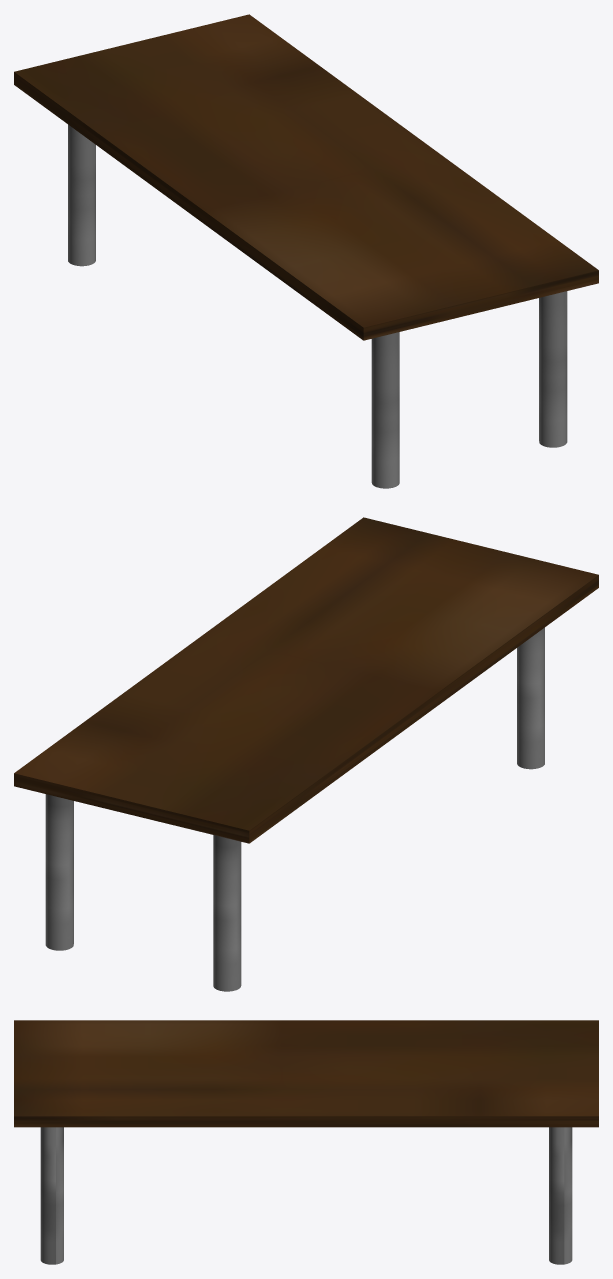
Rendered from Security_Desk.fbx.
The picture shows the model from 3 angles, top to bottom: view 1: azimuth 30°, elevation 25°; view 2: azimuth 150°, elevation 25°; view 3: azimuth 270°, elevation 25°; orthographic projection. The views are drawn at different scales.
Parts seen in each view (by area): view 1: pCube19; view 2: pCube19; view 3: pCube19.
Boxes of the visible parts, <box> form: pCube19: <box>14,14,598,488</box>; pCube19: <box>14,517,598,991</box>; pCube19: <box>14,1020,598,1264</box>.
Size of the model in its own units: 9.84 by 7.3 by 25.32.
